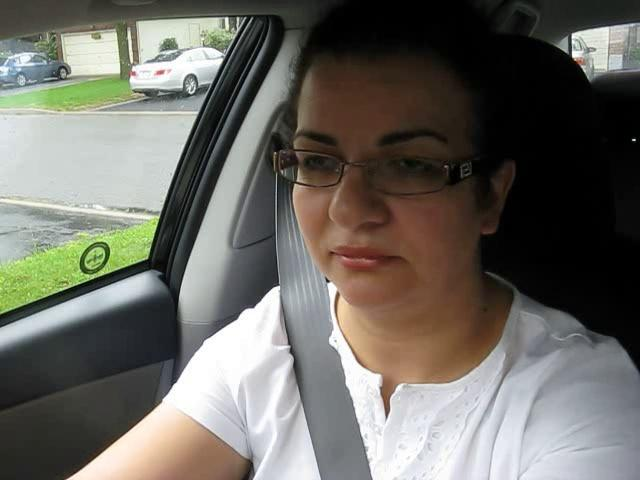close_eyeL: (285, 143, 355, 190)
close_eyeR: (369, 145, 456, 198)
no_yawn: (311, 232, 413, 281)
